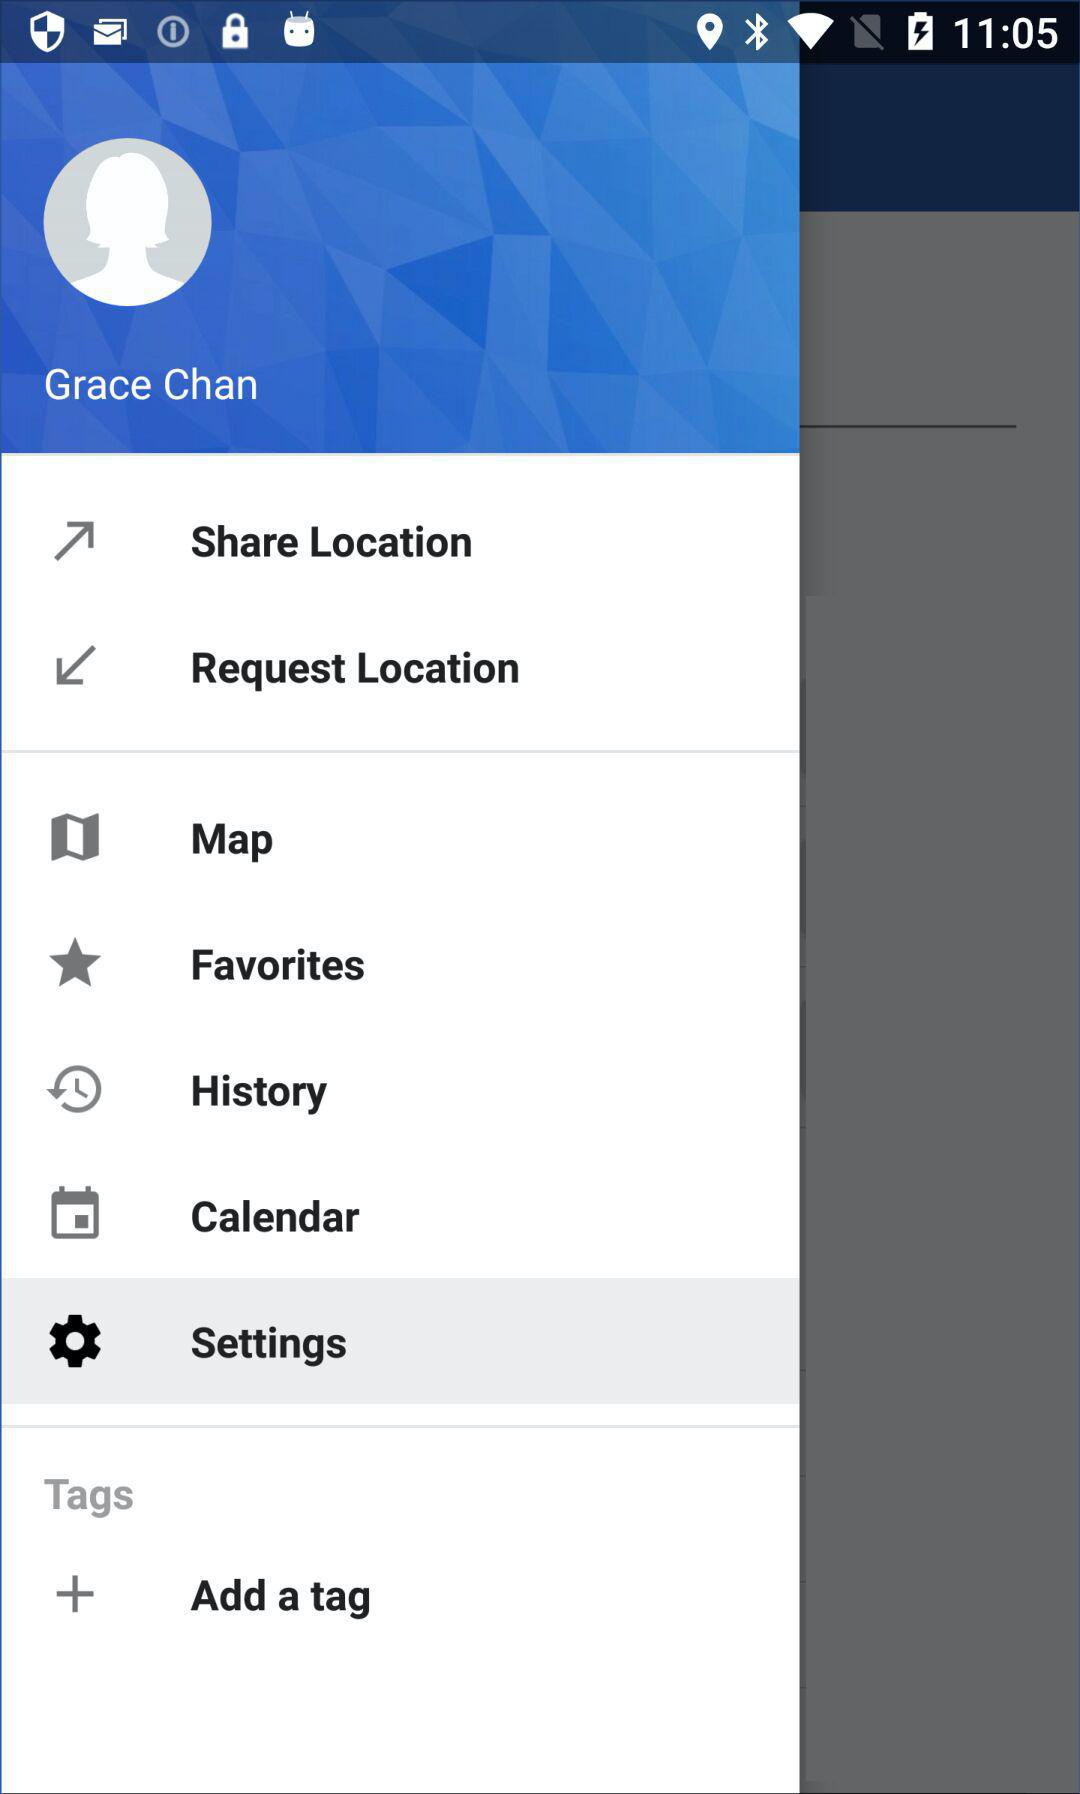Drawer: (1, 64, 799, 1793)
Icon: (44, 138, 214, 308), (47, 1313, 104, 1369), (45, 1064, 104, 1114), (49, 935, 102, 989), (51, 1184, 101, 1240), (50, 812, 102, 862), (53, 522, 96, 563), (56, 645, 97, 686), (56, 1574, 96, 1615)
Text: (192, 650, 520, 693), (192, 524, 473, 560), (190, 1577, 372, 1621), (44, 366, 258, 402), (191, 1325, 350, 1369), (192, 1198, 361, 1235), (192, 947, 366, 982), (192, 1073, 329, 1116), (44, 1477, 135, 1520), (192, 821, 274, 865)
UpperTaskBar: (1, 1, 1080, 64)
